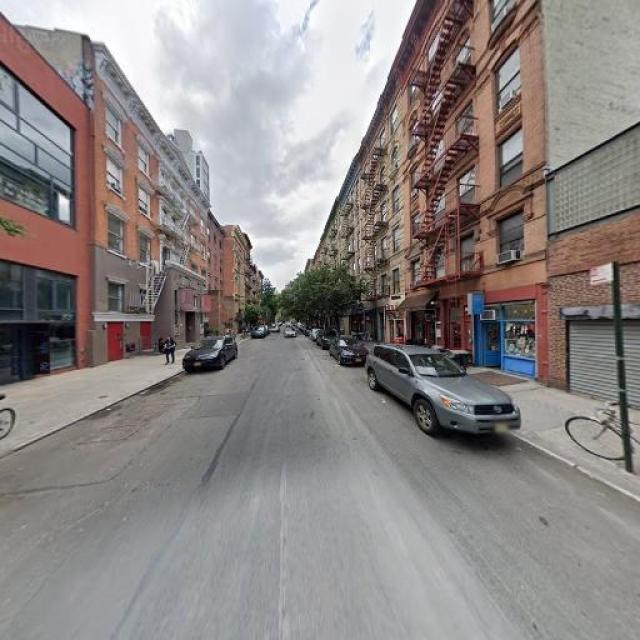Building: (408, 1, 539, 382), (90, 28, 207, 363), (1, 15, 84, 383), (545, 128, 640, 407), (363, 52, 405, 349)
